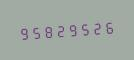eight: (41, 21, 52, 41)
five: (29, 22, 40, 41), (77, 19, 88, 38)
nine: (17, 23, 28, 42), (65, 20, 76, 39)
six: (101, 17, 112, 36)
two: (53, 20, 64, 40), (89, 18, 100, 37)
